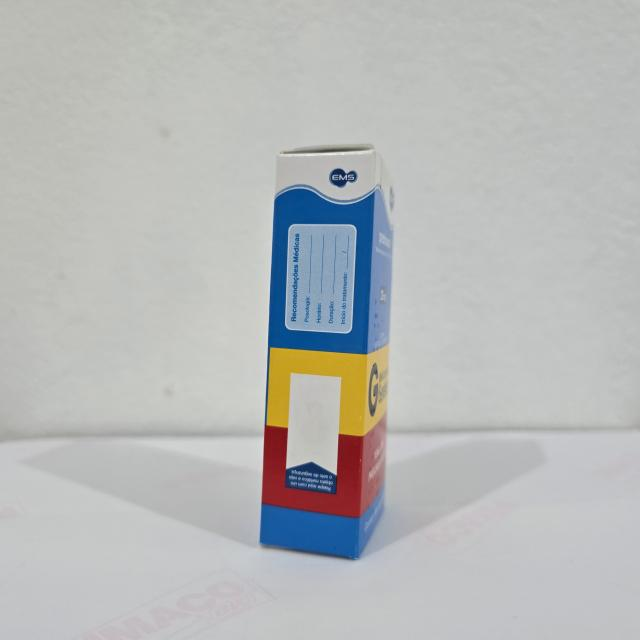prednisona: (251, 140, 400, 562)
